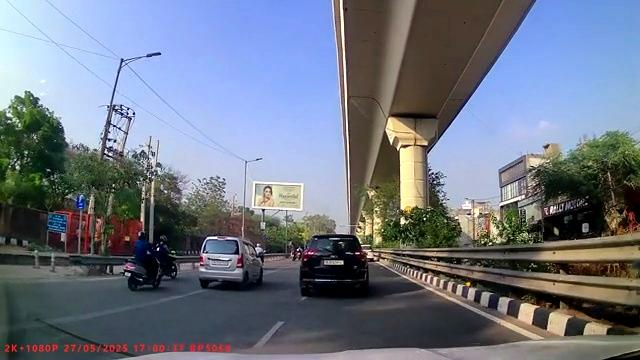motorcycle_with_helmet: (123, 229, 166, 292)
